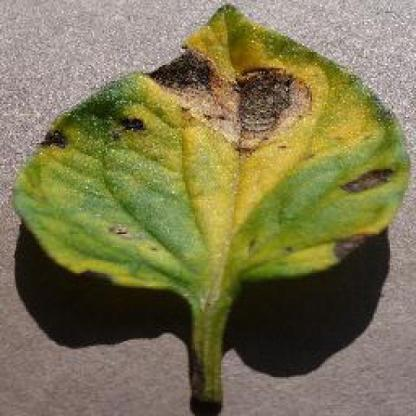Tomato_Blight: (12, 6, 408, 283)
